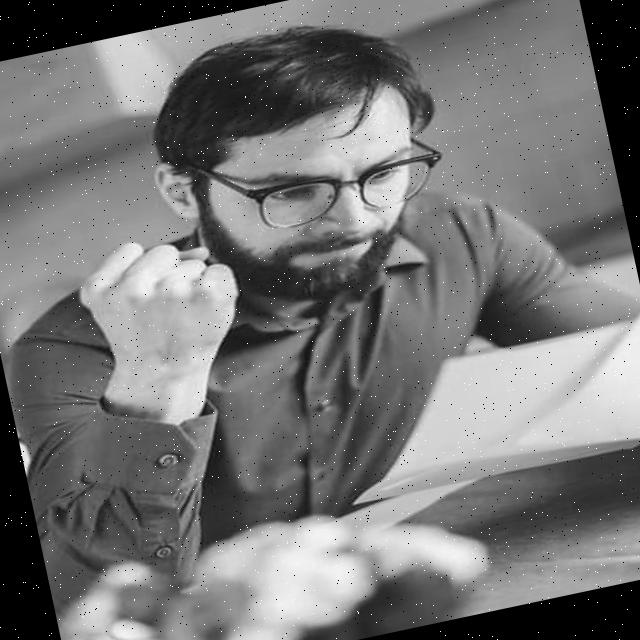Angry: (179, 80, 444, 320)
